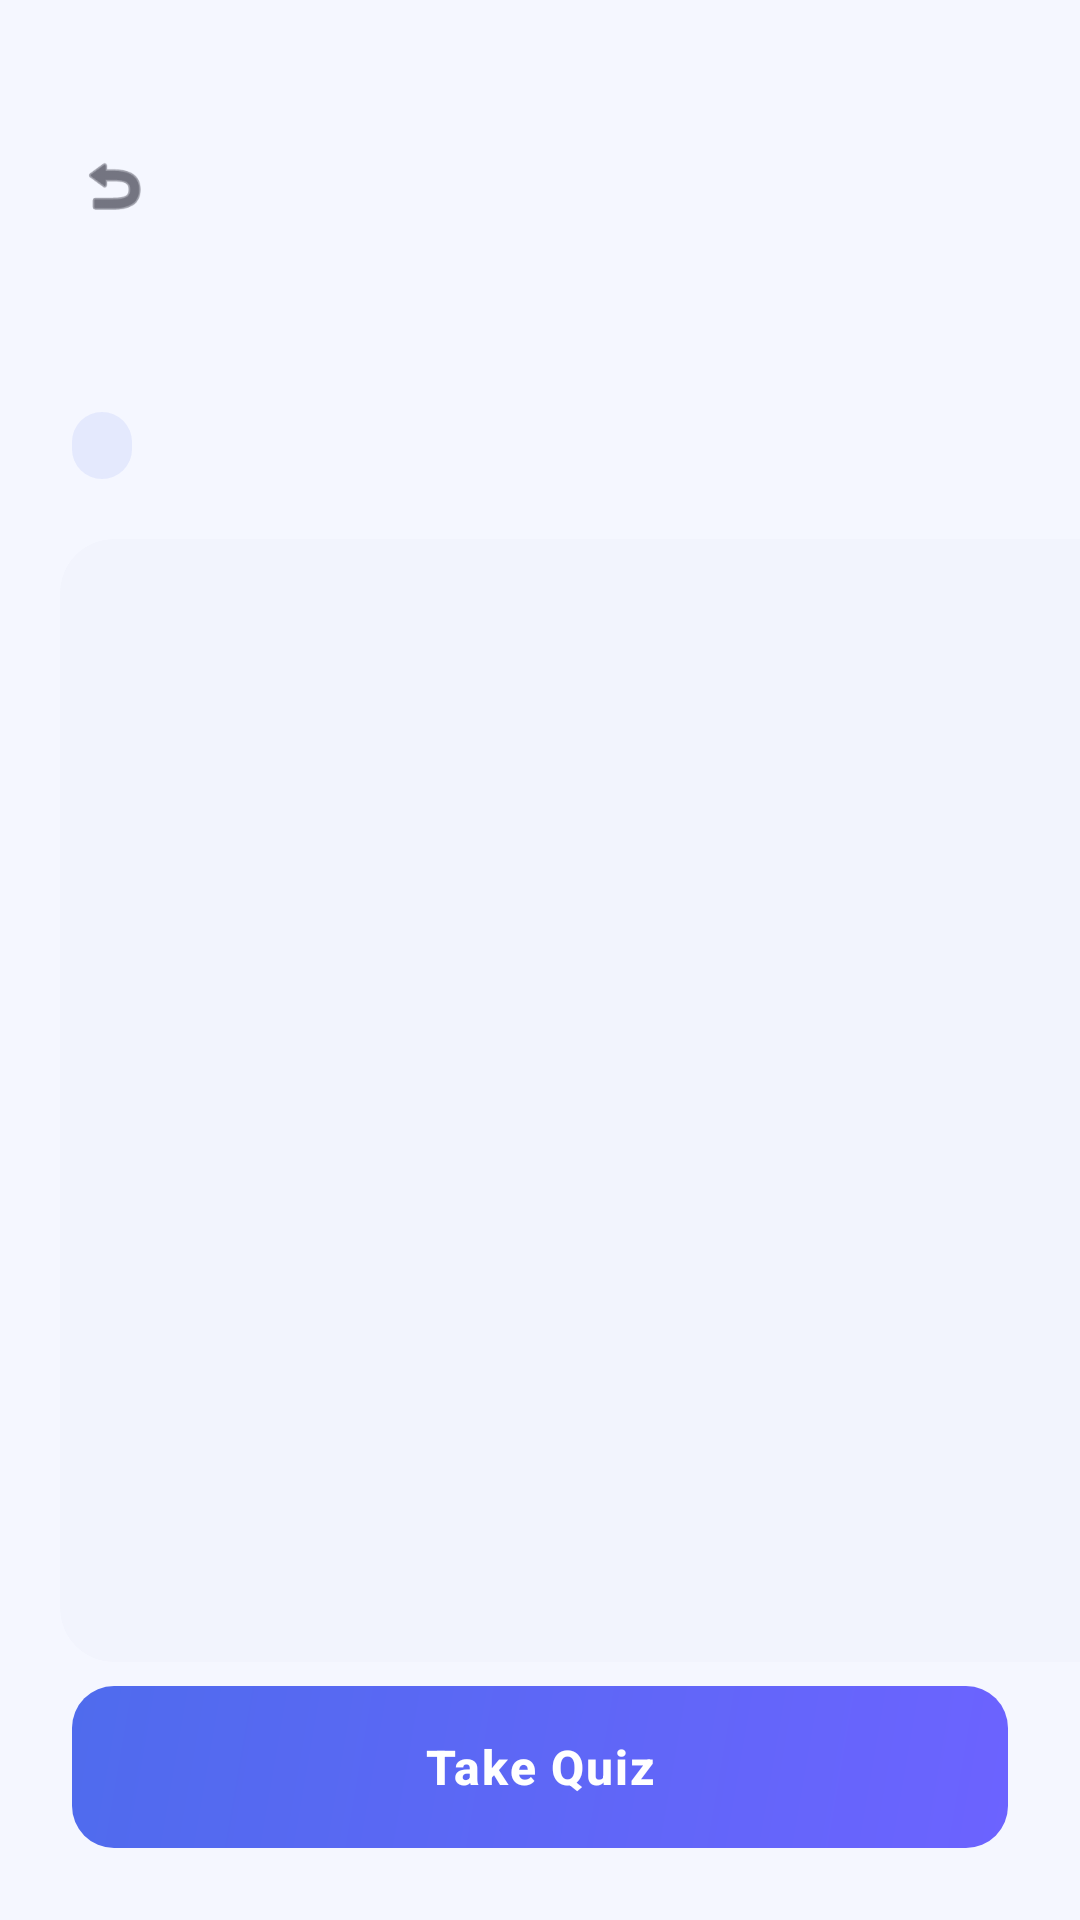

Icons on this 1080 x 1920 Android screen, each with the point to tap as (x,y):
Go back: (115,186)
